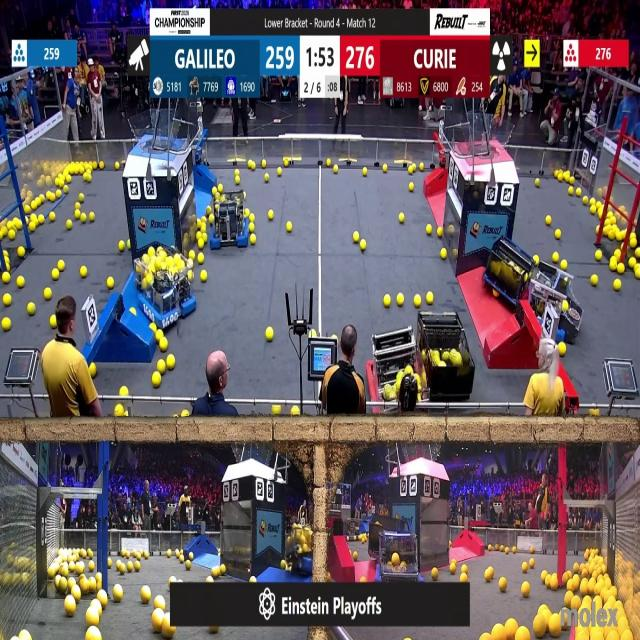ball_ground: (550, 619, 562, 639), (163, 618, 174, 639), (152, 613, 162, 634), (88, 612, 100, 628), (66, 598, 76, 616), (141, 587, 151, 604), (493, 625, 504, 640), (518, 628, 530, 640), (99, 592, 108, 607), (167, 355, 176, 369), (88, 629, 99, 640), (152, 373, 160, 388), (522, 583, 530, 598), (114, 587, 122, 602), (570, 596, 579, 609), (2, 318, 10, 331), (558, 344, 566, 357), (486, 568, 494, 581), (564, 594, 572, 607), (73, 589, 81, 602), (154, 598, 163, 609), (91, 362, 98, 376), (499, 579, 506, 593), (426, 292, 434, 304), (49, 316, 57, 328), (2, 273, 10, 285), (414, 294, 422, 306), (3, 293, 11, 305), (28, 304, 36, 316), (159, 360, 167, 372), (114, 406, 122, 418), (267, 327, 274, 340), (384, 294, 391, 307), (290, 408, 299, 418), (16, 277, 24, 288), (160, 340, 168, 351), (119, 386, 127, 397), (212, 566, 220, 577), (20, 632, 31, 640), (107, 278, 114, 290), (591, 275, 598, 287), (14, 218, 21, 230), (630, 236, 637, 248), (274, 407, 282, 417), (44, 287, 50, 300), (610, 260, 616, 273), (201, 272, 208, 283), (59, 262, 66, 273), (198, 252, 205, 263), (629, 257, 636, 268), (90, 561, 97, 572), (80, 267, 86, 279), (359, 240, 365, 252), (397, 293, 403, 305), (442, 248, 448, 260), (590, 411, 599, 419), (218, 564, 224, 576), (56, 178, 64, 187), (17, 248, 24, 258), (51, 270, 58, 280), (553, 252, 560, 262), (8, 231, 15, 241), (250, 235, 256, 246), (118, 241, 124, 252), (596, 250, 602, 261), (353, 233, 359, 244), (616, 280, 622, 291), (431, 568, 437, 579), (155, 332, 161, 343), (206, 575, 214, 583), (460, 573, 467, 582), (248, 162, 255, 171), (426, 224, 432, 234), (67, 219, 73, 229), (286, 222, 292, 232), (90, 212, 96, 222), (619, 265, 625, 275), (49, 212, 55, 222), (269, 210, 275, 220), (561, 262, 567, 272), (185, 560, 191, 570), (436, 228, 442, 238), (30, 222, 36, 232), (523, 563, 529, 573), (135, 562, 141, 572), (419, 162, 425, 172), (128, 562, 134, 572), (280, 560, 286, 570), (564, 172, 570, 182), (608, 231, 614, 241), (540, 571, 546, 581), (37, 216, 44, 224), (482, 633, 490, 640), (195, 233, 202, 241), (554, 171, 561, 179), (181, 411, 188, 419), (556, 231, 562, 240), (199, 240, 205, 249), (80, 213, 86, 222), (78, 192, 84, 201), (188, 250, 194, 259), (31, 214, 37, 223), (57, 189, 63, 198), (212, 186, 218, 195), (25, 207, 31, 216), (83, 173, 89, 182), (127, 241, 133, 250), (449, 224, 455, 233), (97, 572, 103, 581), (187, 272, 193, 281), (545, 215, 550, 225), (398, 213, 403, 223), (451, 564, 456, 574), (75, 210, 80, 220), (635, 269, 640, 279), (250, 575, 256, 583), (114, 163, 120, 171), (187, 553, 193, 561), (276, 168, 282, 176), (179, 556, 185, 564), (462, 565, 468, 573), (284, 160, 290, 168), (596, 225, 602, 233), (311, 328, 317, 336), (568, 186, 573, 195), (67, 175, 72, 184), (591, 207, 596, 216), (529, 560, 534, 569), (64, 184, 69, 193), (331, 167, 337, 174), (602, 227, 608, 234), (325, 161, 331, 168), (236, 176, 241, 184), (249, 223, 254, 231), (100, 162, 105, 170), (362, 168, 367, 176), (383, 165, 388, 173), (410, 167, 415, 175), (635, 248, 640, 256), (75, 202, 80, 210), (584, 198, 589, 206), (616, 250, 621, 258), (108, 560, 113, 568), (209, 215, 214, 223), (203, 234, 208, 242), (122, 410, 127, 418), (144, 552, 149, 560), (4, 256, 9, 264), (410, 182, 414, 191), (535, 178, 539, 187), (266, 174, 270, 183), (360, 575, 365, 582), (575, 188, 580, 195), (131, 308, 136, 315), (207, 208, 212, 215), (168, 551, 172, 559), (250, 214, 254, 222), (218, 184, 222, 192), (504, 546, 509, 552), (170, 576, 174, 583), (264, 160, 268, 167), (488, 543, 492, 550), (4, 250, 8, 257), (236, 170, 240, 176), (354, 554, 357, 562), (530, 546, 534, 552), (514, 546, 518, 552)
goal: (460, 119, 516, 158), (129, 116, 186, 152)
robot_blue: (134, 246, 198, 329), (529, 264, 586, 342), (209, 189, 249, 249), (282, 526, 314, 574)
robot_red: (415, 311, 475, 412), (372, 322, 424, 414), (483, 243, 532, 308), (434, 0, 489, 7)
